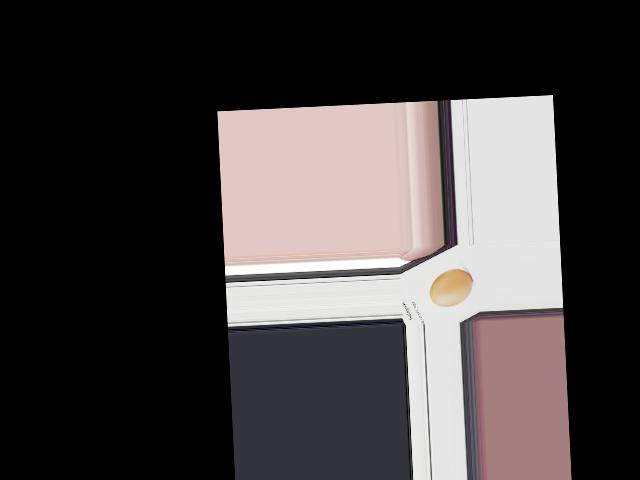egg: (428, 267, 473, 307)
